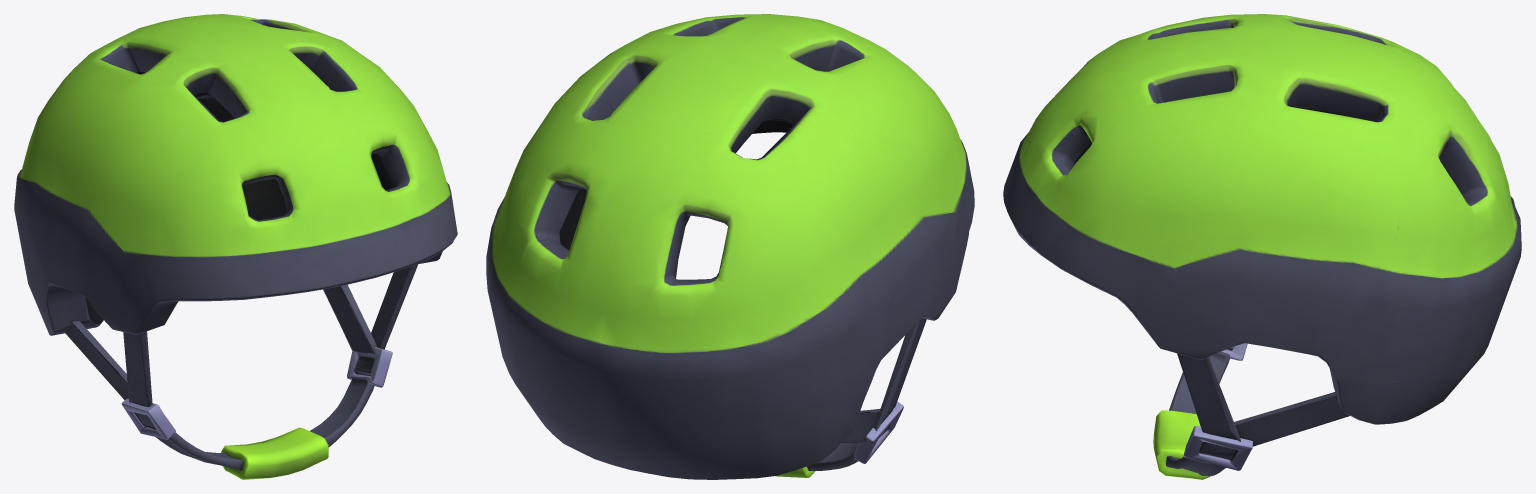
Rendered from skate_helmet.glb.
The picture shows the model from 3 angles, left to right: view 1: azimuth 30°, elevation 25°; view 2: azimuth 150°, elevation 25°; view 3: azimuth 270°, elevation 25°; orthographic projection. The views are drawn at different scales.
Visible parts, largest first — view 1: geometry_0; view 2: geometry_0; view 3: geometry_0.
Boxes of the visible parts, x1,y1,x2,y2 form: geometry_0: (14,14,457,479); geometry_0: (486,14,974,479); geometry_0: (1003,14,1521,479).
Bounding box in the file's own units: 0.7495 × 0.8564 × 0.9512.
Materials: 1 (1 with a texture image).
